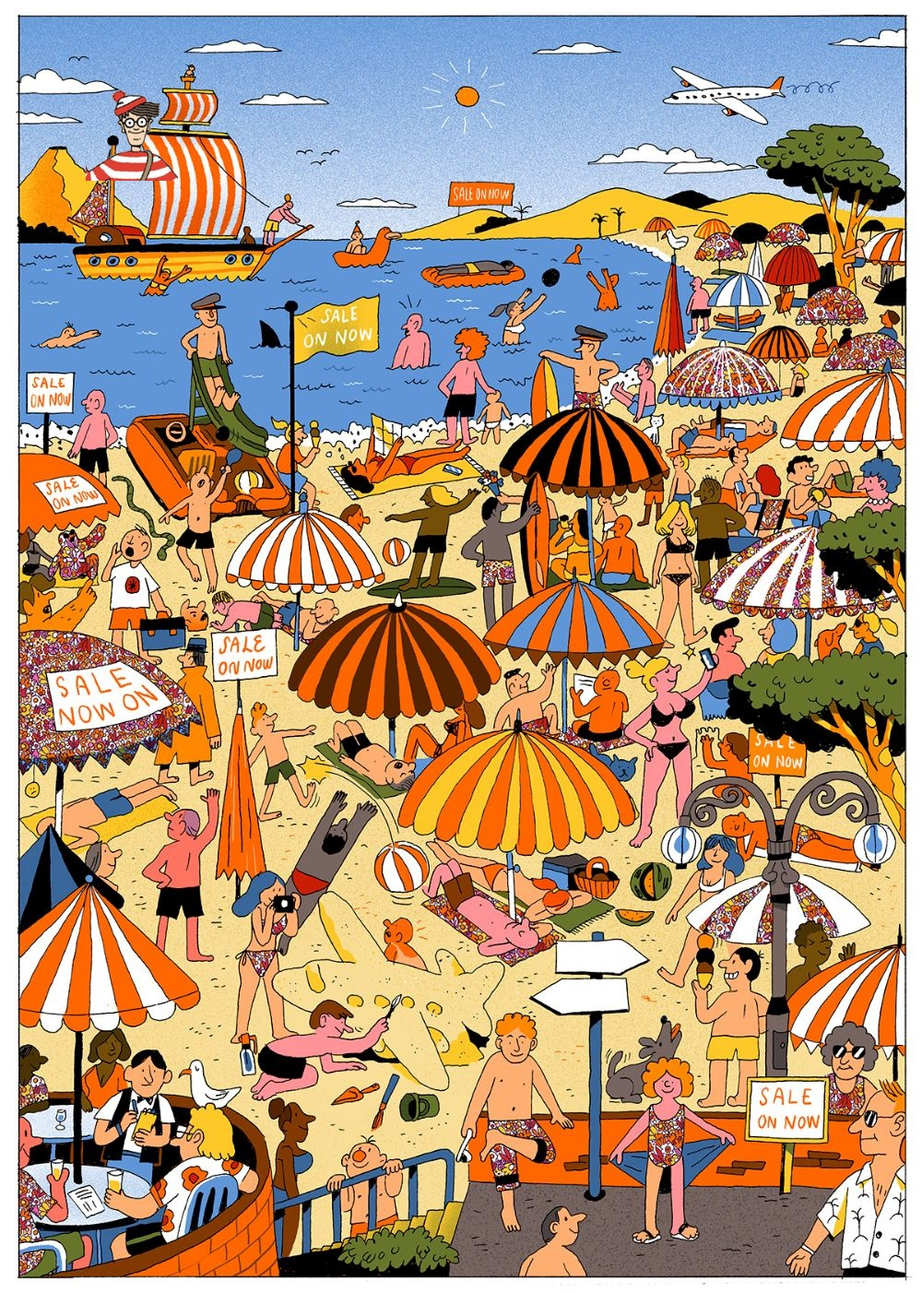waldo: (86, 89, 178, 181)
